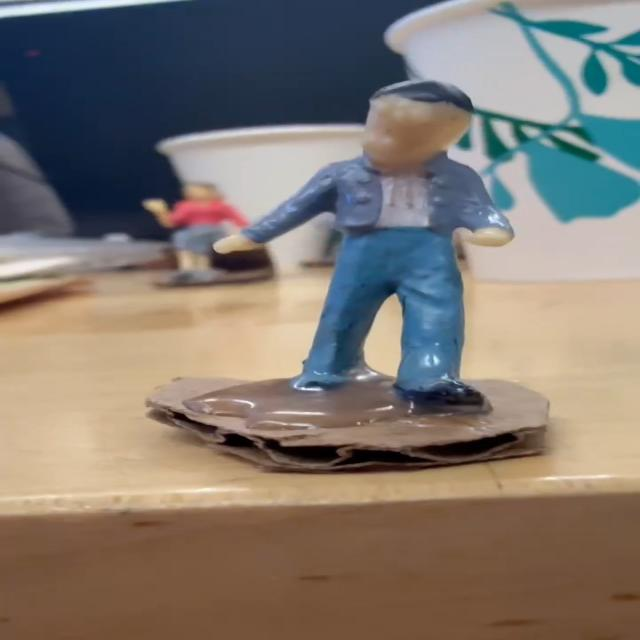Authorized: (171, 62, 634, 487)
